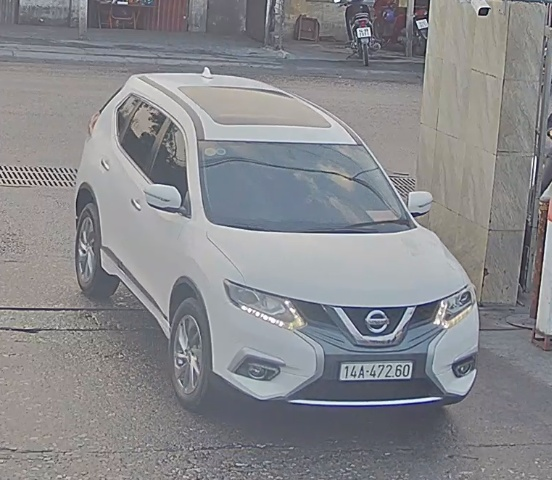vehicle plate: (323, 357, 420, 384)
